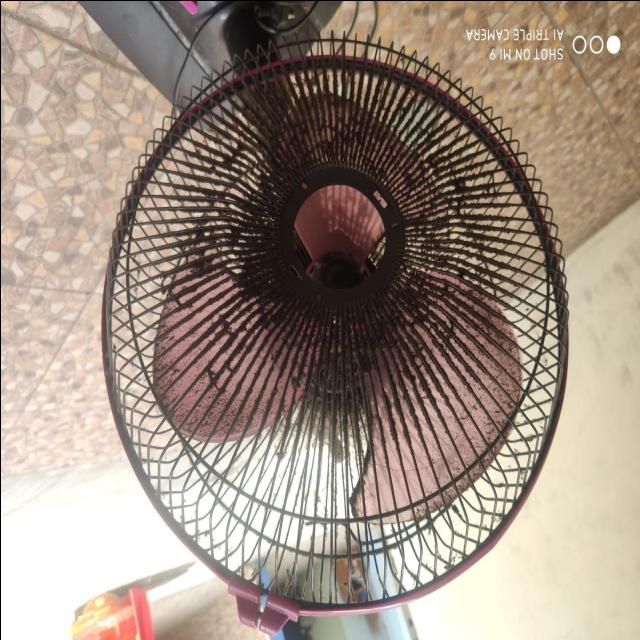fan: (98, 16, 578, 603)
